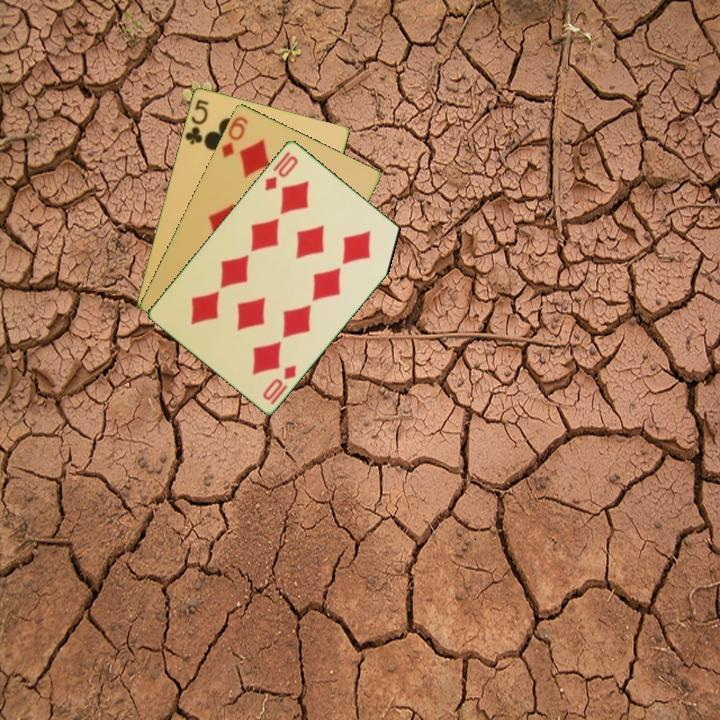10d: (259, 361, 299, 407), (261, 152, 301, 193)
5c: (181, 95, 211, 147)
6d: (217, 112, 251, 160)
